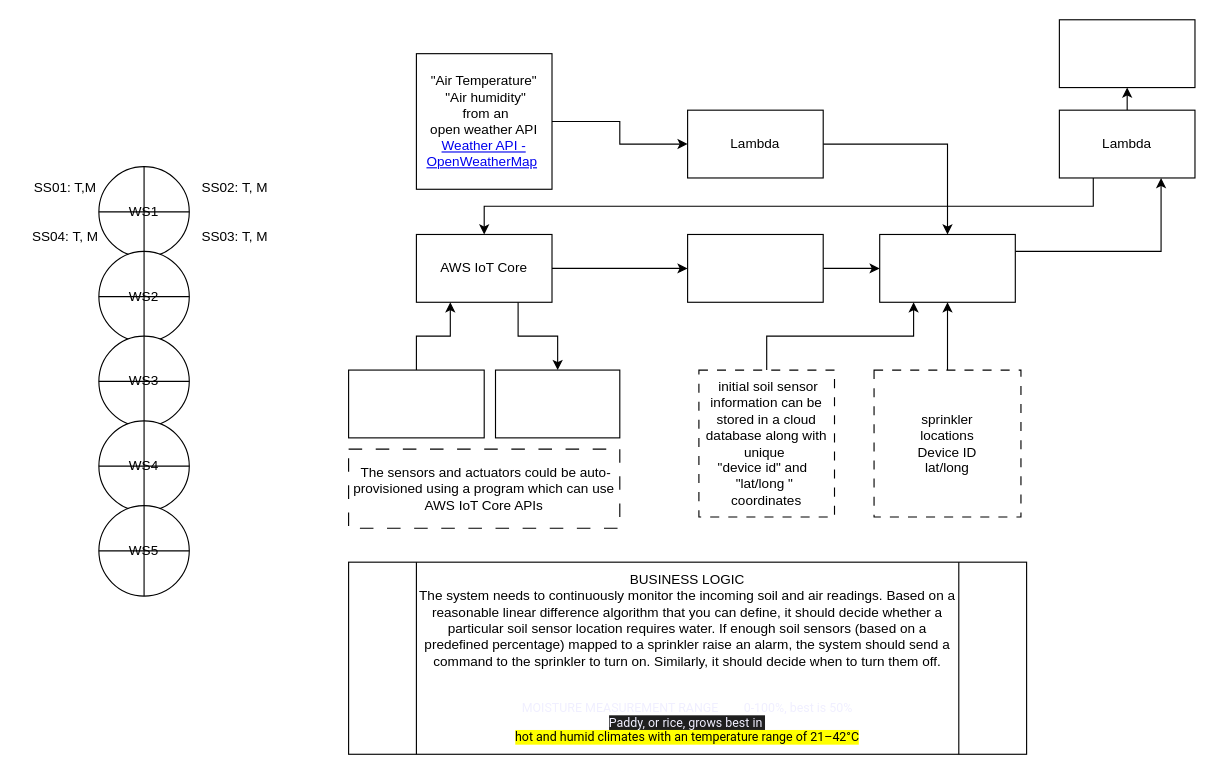
Some shapes in this 1215 by 774 pixel diagram are drawn without their labels. The shapes that lost their labels are listed below. From the top down, each one's centre as x and y in pixels, then its label:
point 1126,53: Display status of the sensor and sprinklers
point 754,267: AWS Kinesis Data Steam
point 947,267: Dynamo DB
point 415,403: 20 Soil Sensor "Soil Temperature" "Soil Moisture"
point 557,403: 5 Sprinklers (Actuator)
